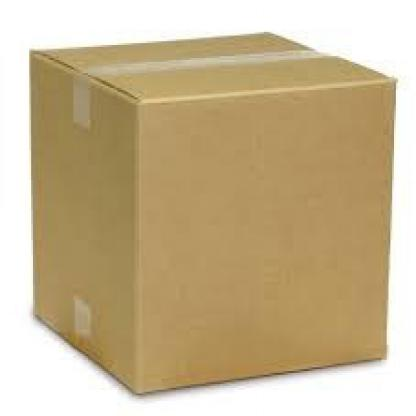box: (29, 24, 398, 396)
